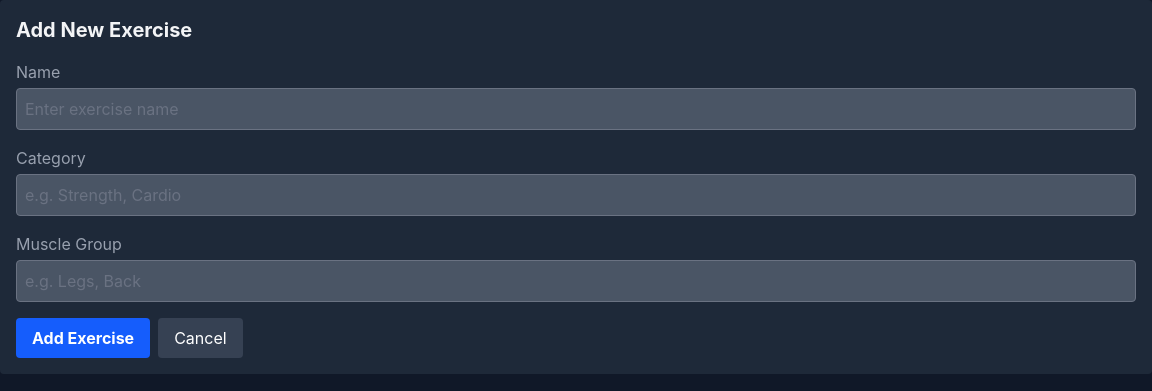
Test: AddExerciseForm › disables submit button while submitting
The width and height of the screenshot is (1152, 391).
Expected: the button "Add Exercise" is enabled, [16,318,150,358]
Type "Bench Press" into the field labelled "Name" at (576, 109), box [16,88,1136,130]
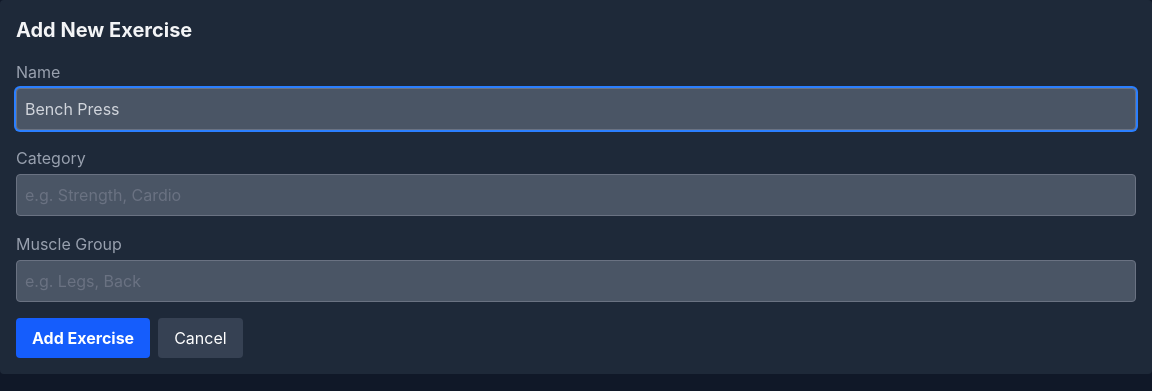
Type "Strength" into the field labelled "Category" at (576, 195), box [16,174,1136,216]
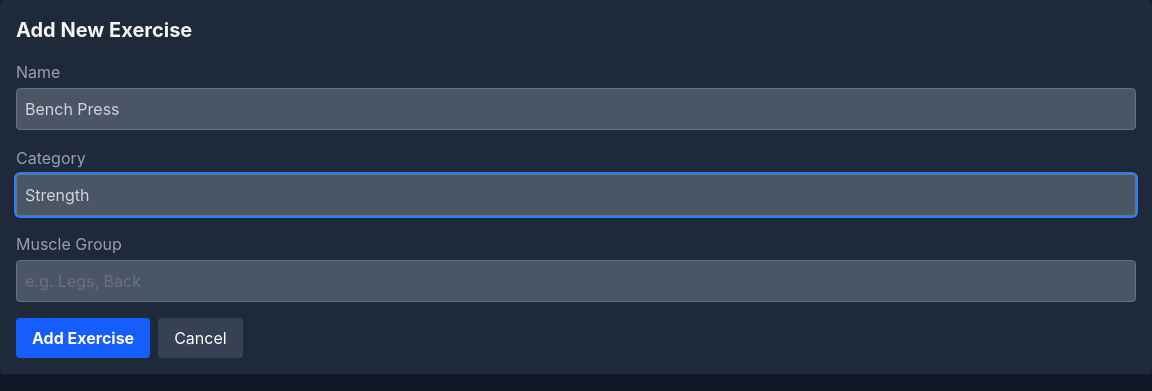
Type "Chest" into the field labelled "Muscle Group" at (576, 281), box [16,260,1136,302]
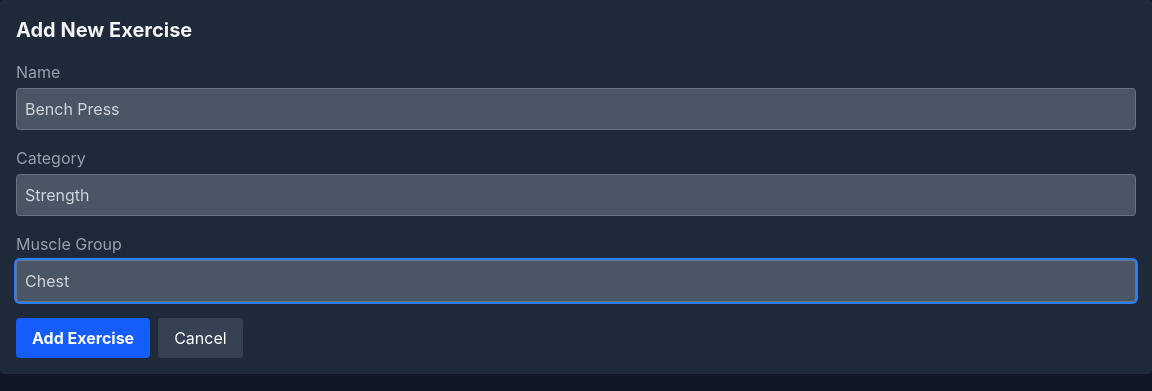
Click the button "Add Exercise" at (83, 338), box [16,318,150,358]
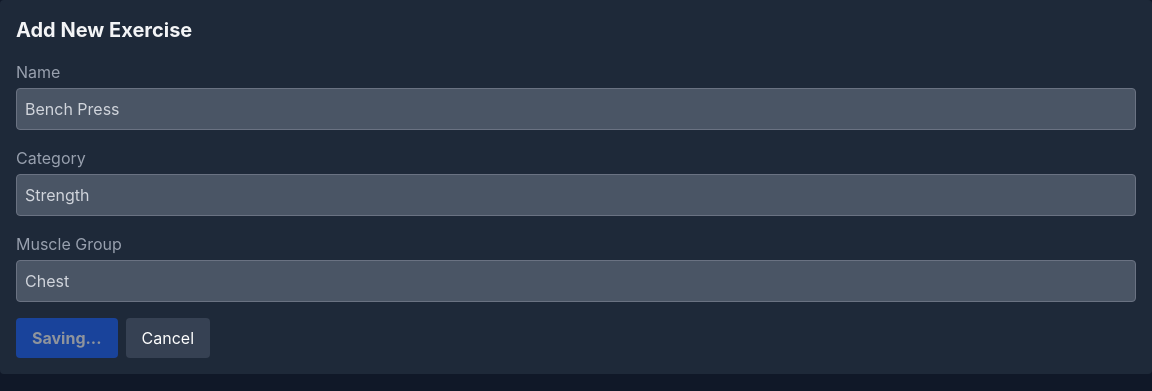
Expected: the button named "add exercise" is disabled, [16,318,118,358]
Expected: the button named "add exercise" shows "Saving", [16,318,118,358]
